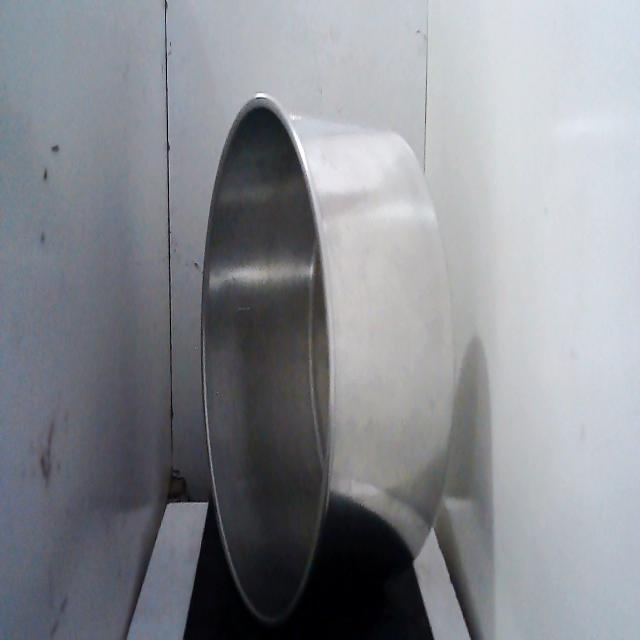metal: (194, 85, 462, 635)
